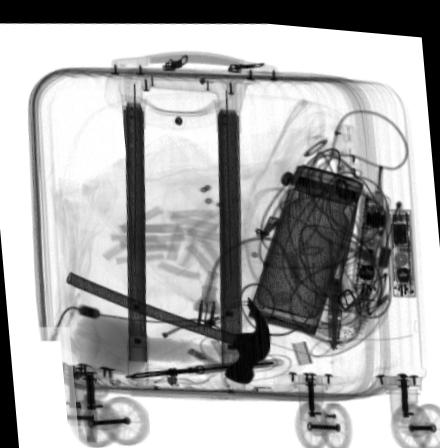Hammer: (65, 271, 271, 379)
Knife: (122, 353, 276, 376)
Scissors: (269, 179, 382, 343)
